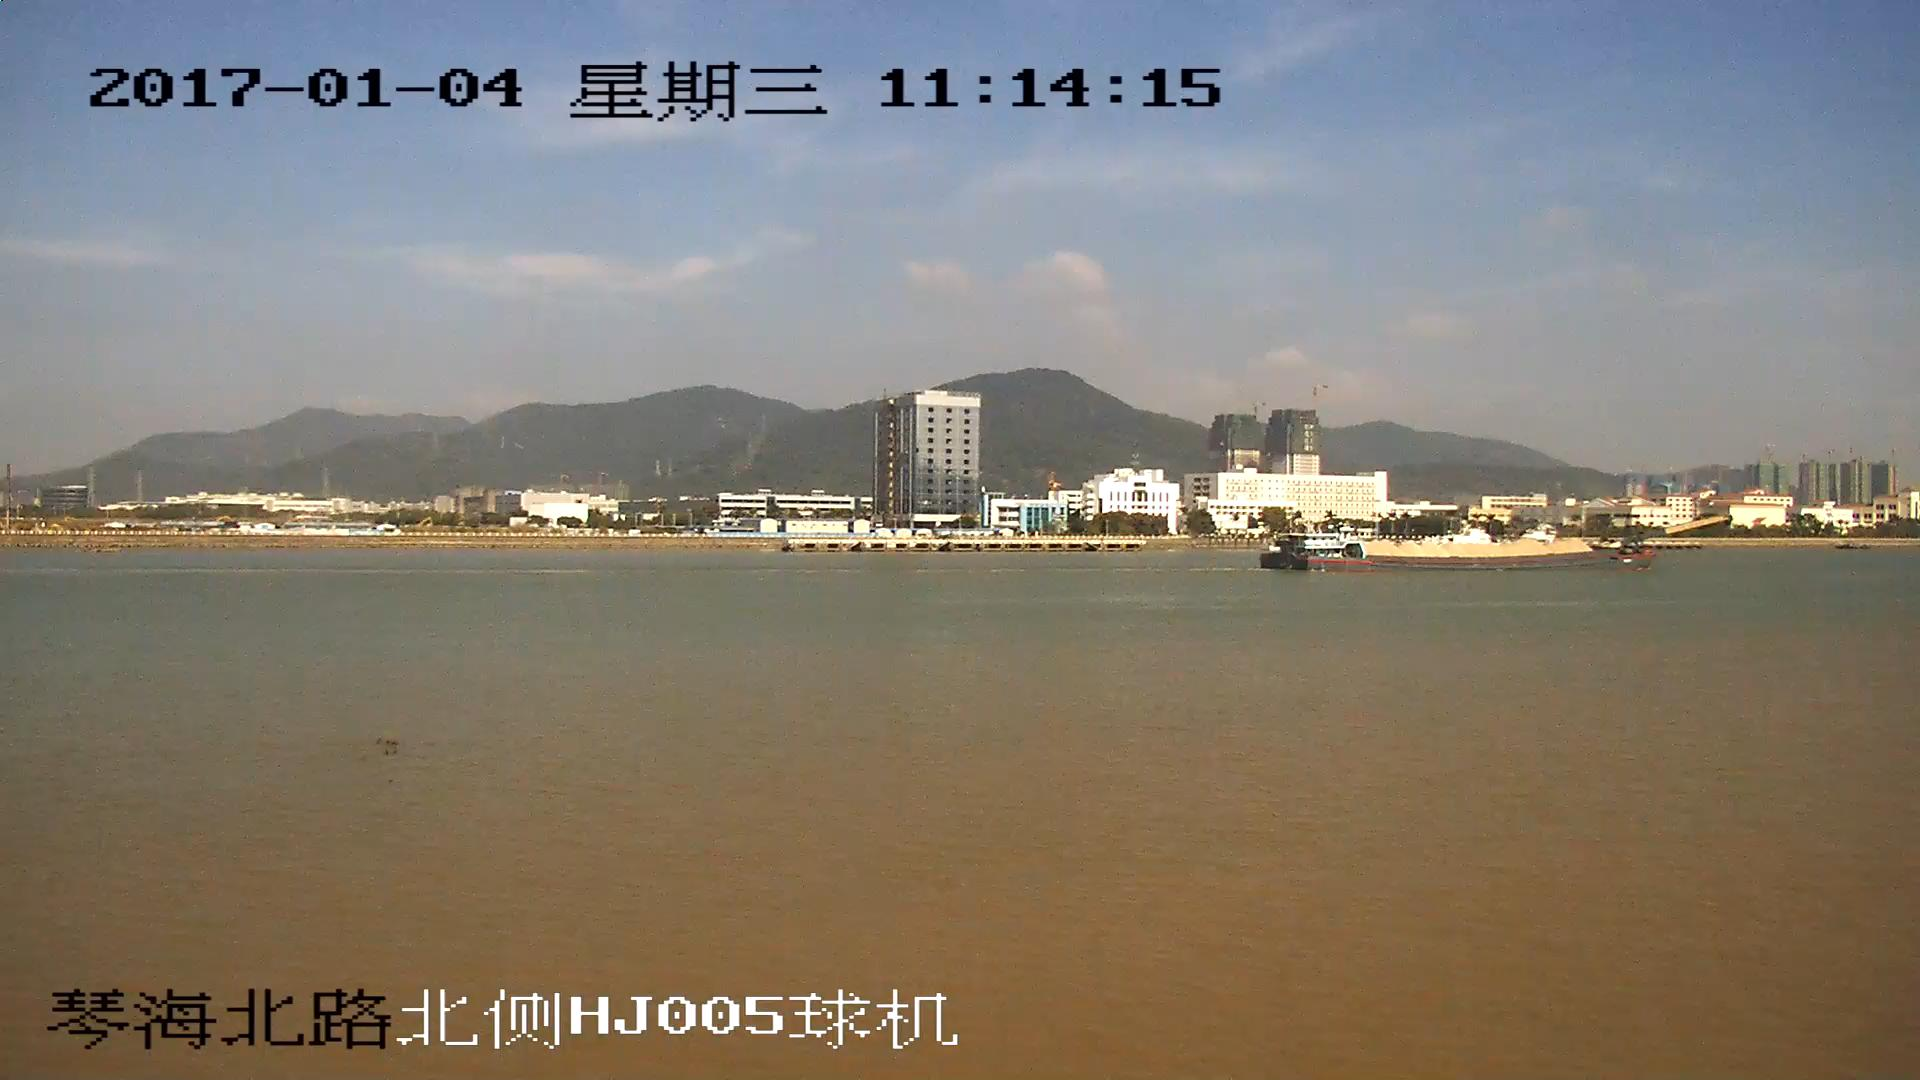ore carrier: (1262, 520, 1726, 577)
